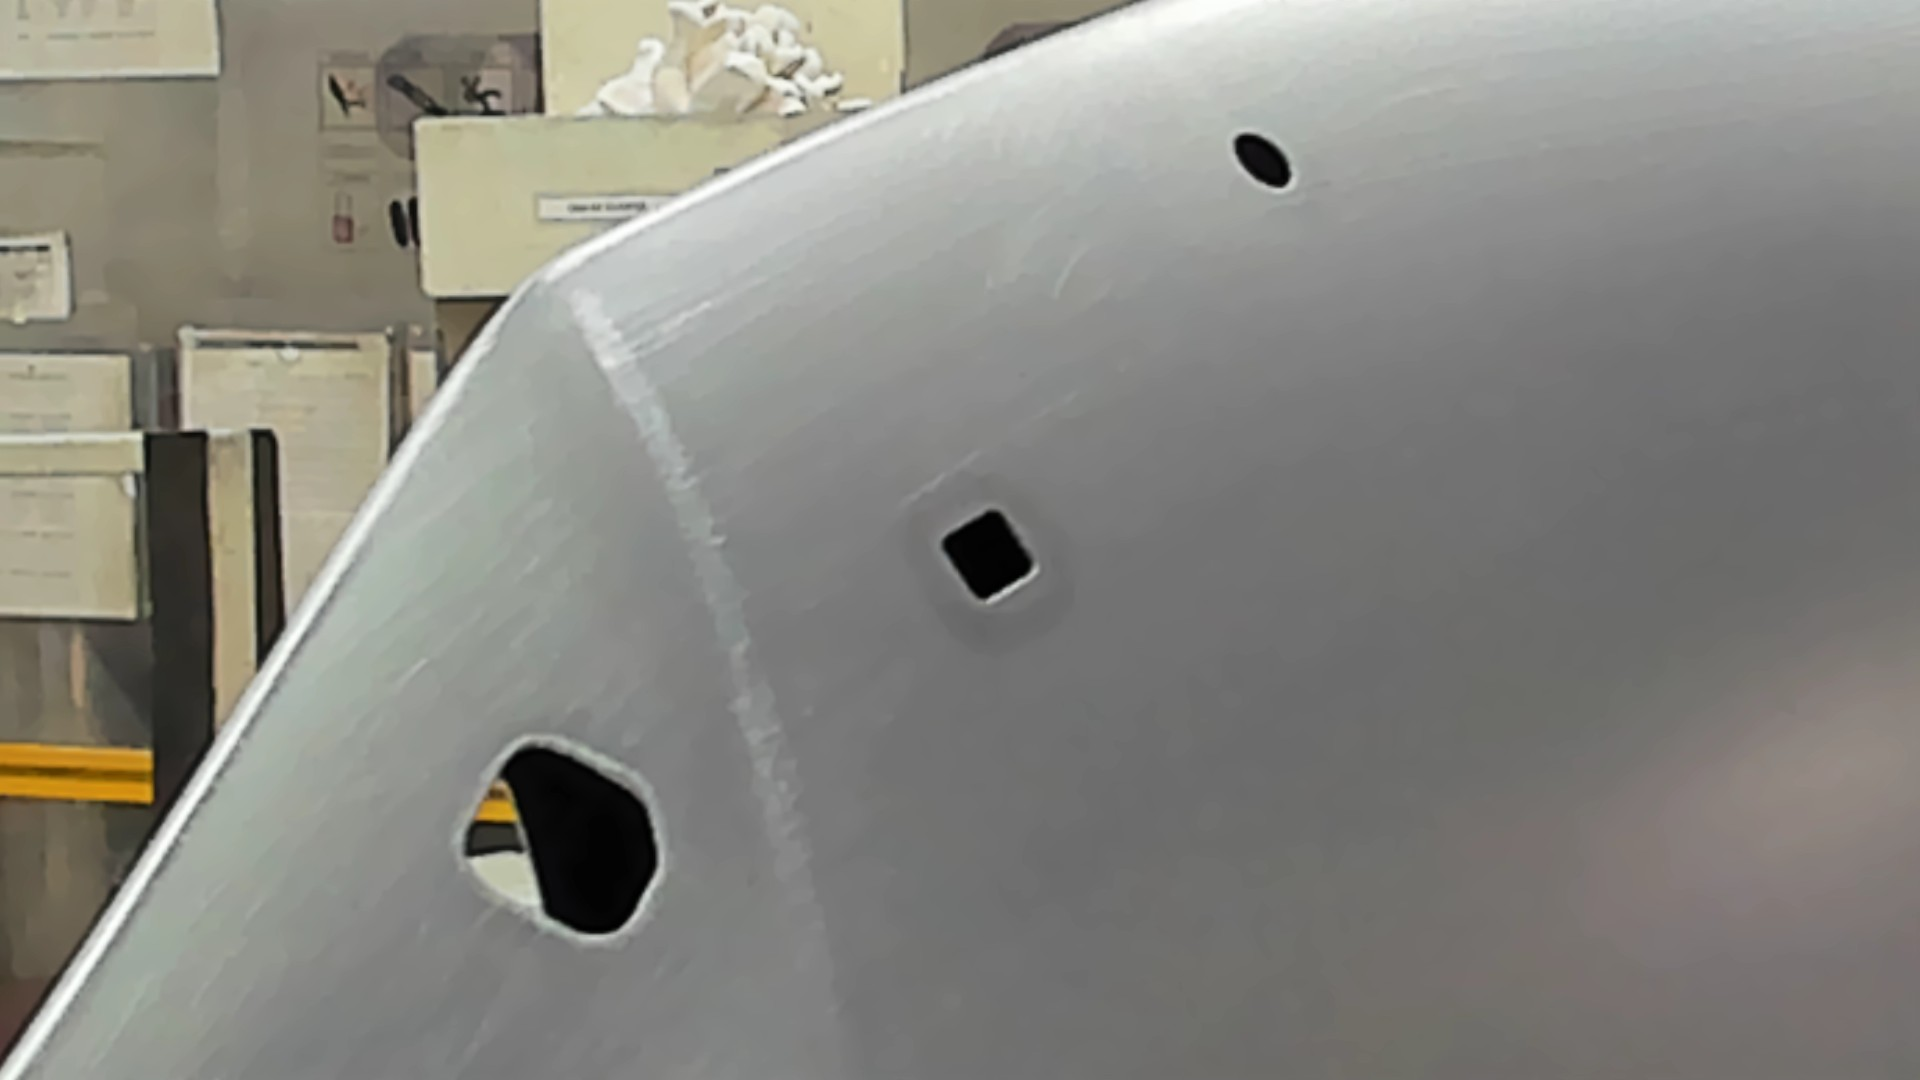chico: (1229, 127, 1298, 191)
grande: (447, 729, 670, 957)
mediano: (932, 500, 1048, 613)
